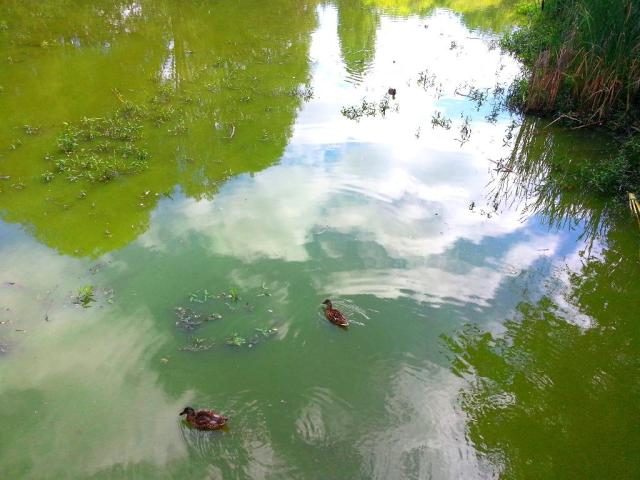Bird: (179, 405, 230, 427), (322, 299, 350, 329)
